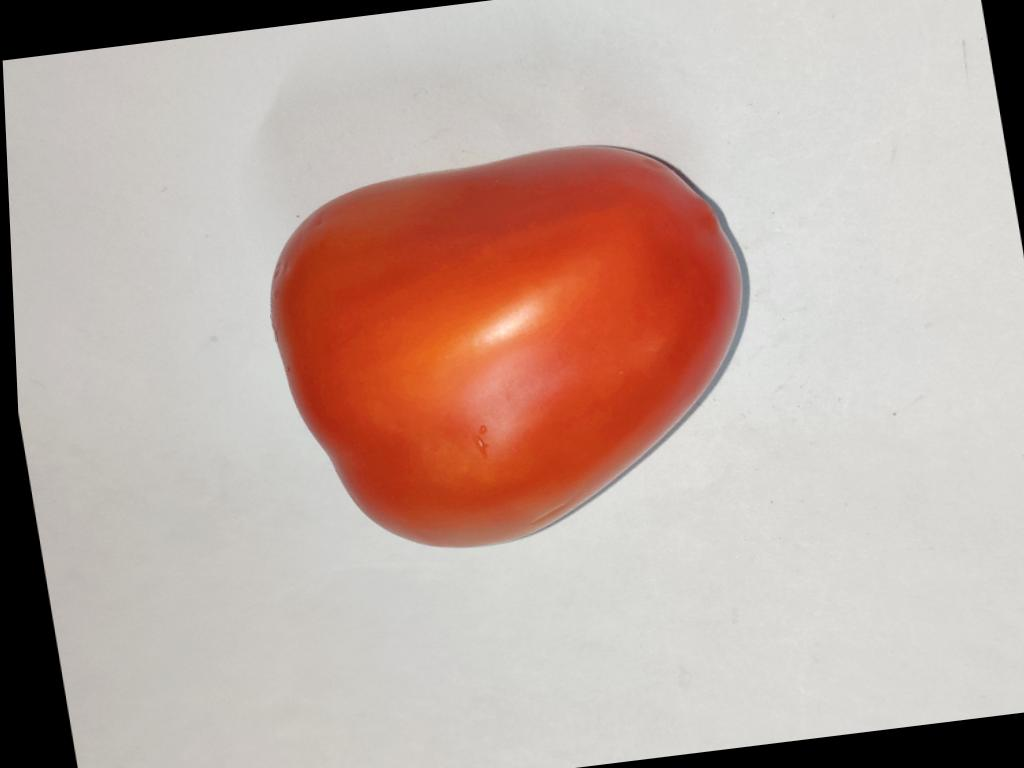tomato: (271, 147, 741, 545)
